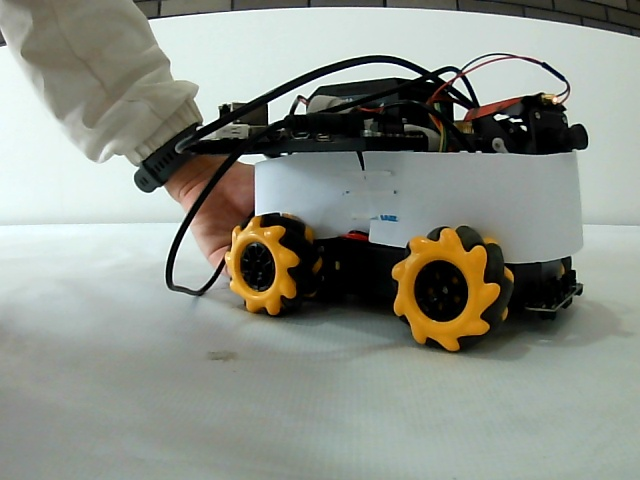car: (215, 83, 592, 355)
paper: (255, 162, 581, 232)
